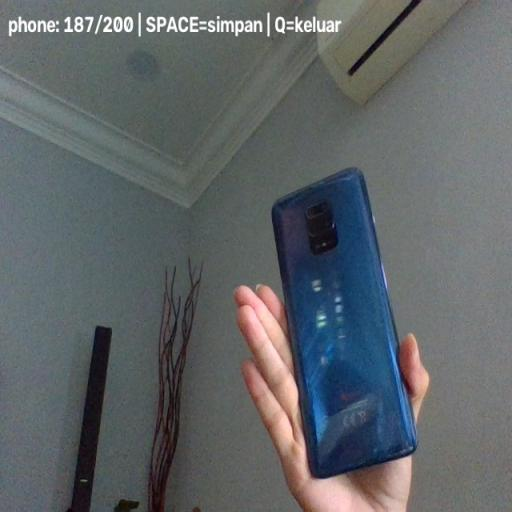Phone: (271, 166, 418, 479)
